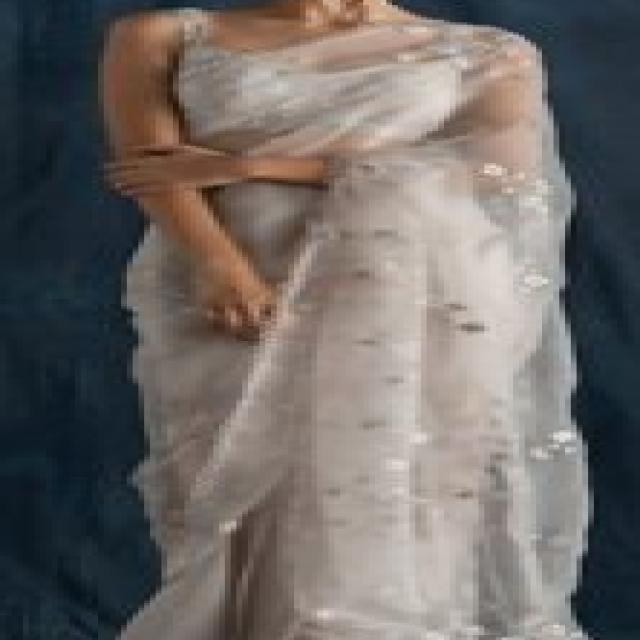Saree: (98, 5, 640, 640)
